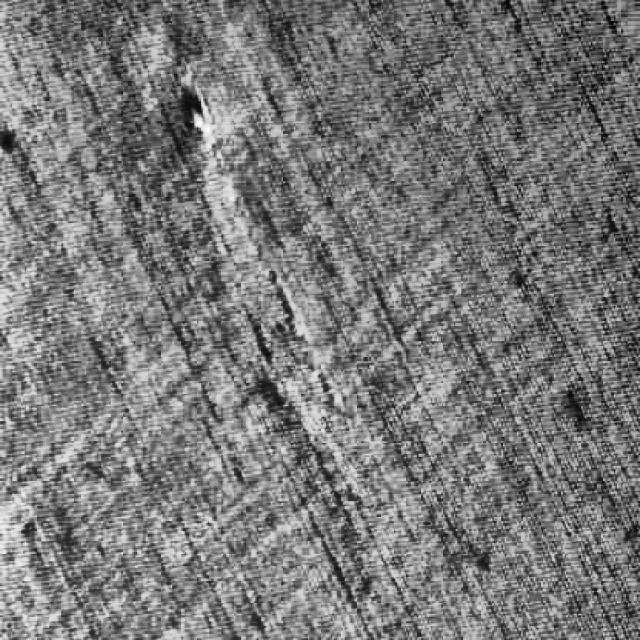thread_error: (168, 69, 355, 424)
